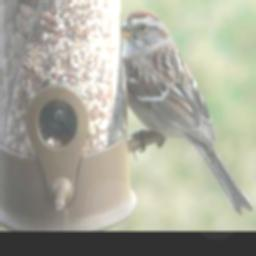Sparrow: (121, 7, 254, 215)
